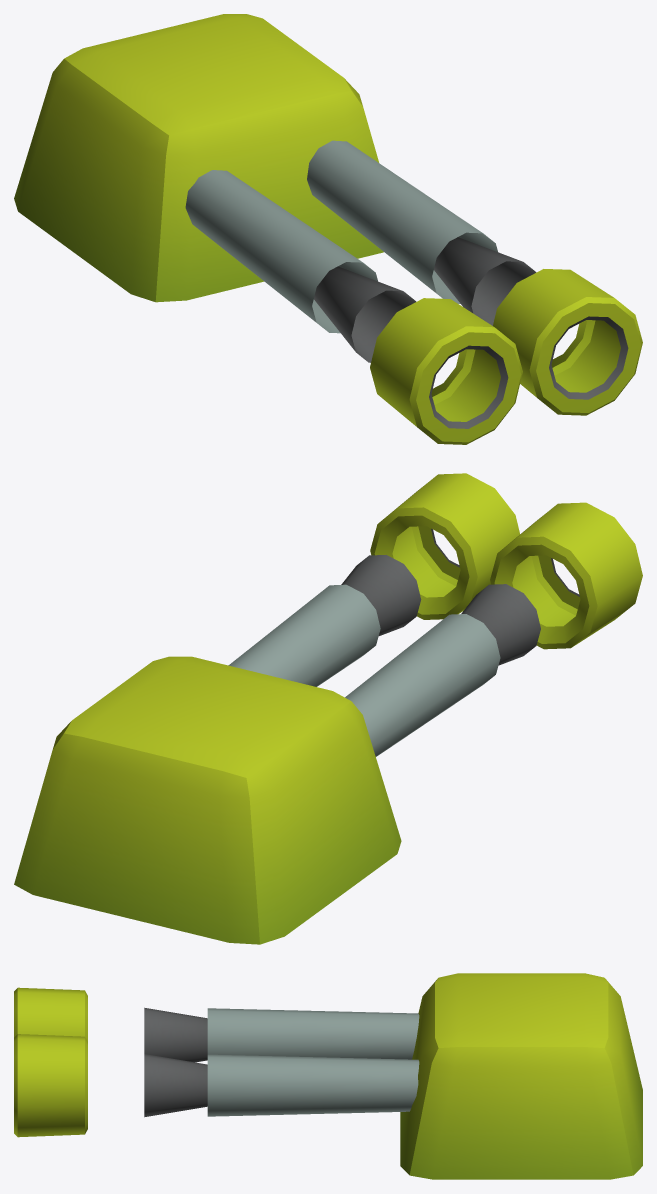
Rendered from doublehead.fbx.
The picture shows the model from 3 angles, top to bottom: view 1: azimuth 30°, elevation 25°; view 2: azimuth 150°, elevation 25°; view 3: azimuth 270°, elevation 25°; orthographic projection. The views are drawn at different scales.
Visible parts, largest first — view 1: Barrel, Barrel.001, Barrel.002; view 2: Barrel, Barrel.002, Barrel.001; view 3: Barrel, Barrel.001, Barrel.002.
Boxes of the visible parts, x1=… form: Barrel: x1=14, y1=14, x2=383, y2=302; Barrel.001: x1=185, y1=140, x2=536, y2=362; Barrel.002: x1=370, y1=269, x2=642, y2=444; Barrel: x1=14, y1=656, x2=401, y2=944; Barrel.002: x1=370, y1=473, x2=642, y2=649; Barrel.001: x1=228, y1=555, x2=540, y2=756; Barrel: x1=400, y1=973, x2=642, y2=1179; Barrel.001: x1=144, y1=1007, x2=419, y2=1117; Barrel.002: x1=14, y1=987, x2=87, y2=1137.
Bounding box in the file's own units: 28.85 × 16.18 × 74.45.
